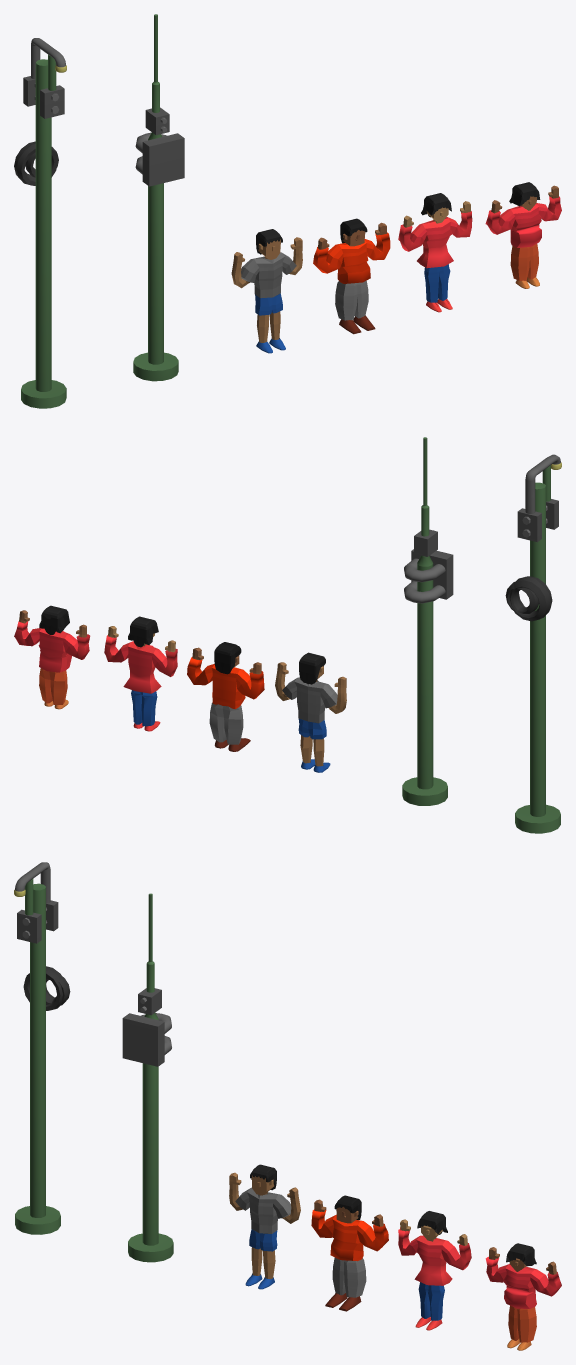
Rendered from xportmoideladojj1.fbx.
3 renders of one model, top to bottom at view 1: azimuth 30°, elevation 25°; view 2: azimuth 150°, elevation 25°; view 3: azimuth 330°, elevation 25°, orthographic.
Visible parts, largest first — view 1: pCylinder6, polySurface4, polySurface22 (×2), polySurface18 (×2), pasted__pCube1, polySurface17 (×2), ParteCaja_Plomo_, pTorus5, polySurface25, polySurface24, polySurface21, pTorus7 (+2 smaller); view 2: pCylinder6, polySurface4, polySurface22 (×2), polySurface18 (×2), pTorus5, pasted__polySurface12 (×2), pasted__pCube1, polySurface12 (×2), pTorus4, polySurface17, ParteCaja_Plomo_, polySurface25 (+4 smaller); view 3: pCylinder6, polySurface4, polySurface22 (×2), polySurface18 (×2), pasted__pCube1, polySurface17, ParteCaja_Plomo_, polySurface25, pTorus5, polySurface24, polySurface21, pTorus7 (+1 smaller).
Boxes of the visible parts, x1,y1,x2,y2 form: pCylinder6: (21, 59, 66, 408); polySurface4: (133, 14, 178, 381); polySurface22 (×2): (398, 196, 561, 268); polySurface18 (×2): (241, 232, 390, 298); pasted__pCube1: (142, 107, 184, 186); polySurface17 (×2): (255, 280, 368, 320); ParteCaja_Plomo_: (23, 76, 64, 118); pTorus5: (14, 141, 58, 185); polySurface25: (510, 244, 538, 280); polySurface24: (424, 264, 450, 302); polySurface21: (231, 237, 302, 288); pTorus7: (31, 38, 66, 78); pCylinder6: (515, 482, 560, 833); polySurface4: (402, 437, 447, 805); polySurface22 (×2): (14, 621, 177, 693); polySurface18 (×2): (187, 657, 337, 723); pTorus5: (505, 576, 552, 621); pasted__polySurface12 (×2): (39, 605, 158, 647); pasted__pCube1: (411, 529, 453, 599); polySurface12 (×2): (214, 642, 325, 684); pTorus4: (404, 558, 445, 603); polySurface17: (209, 702, 243, 744); ParteCaja_Plomo_: (517, 499, 558, 542); polySurface25: (39, 668, 67, 704); pCylinder6: (15, 883, 60, 1234); polySurface4: (128, 893, 173, 1262); polySurface22 (×2): (398, 1227, 561, 1308); polySurface18 (×2): (235, 1187, 388, 1261); pasted__pCube1: (122, 988, 164, 1066); polySurface17: (332, 1257, 366, 1297); ParteCaja_Plomo_: (17, 900, 58, 943); polySurface25: (508, 1305, 536, 1342); pTorus5: (23, 966, 70, 1010); polySurface24: (418, 1282, 444, 1320); polySurface21: (229, 1172, 300, 1223); pTorus7: (14, 862, 50, 903).
Bounding box in the file's own units: 27.17 × 17.23 × 2.92.
Materials: 6 (5 with a texture image).
